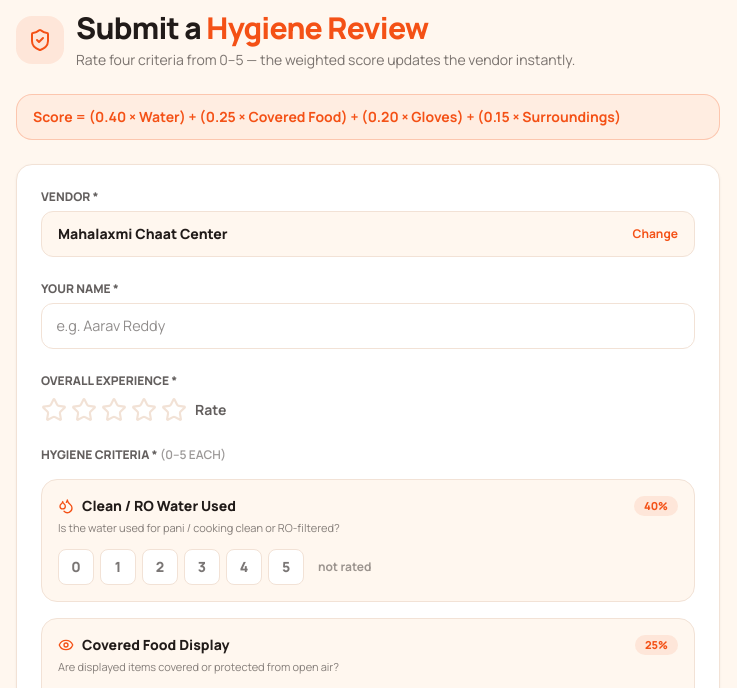
Test: HygieneReview › shows the selected value as "n / 5" once a criterion is rated
Click the button named "Clean / RO Water Used: 3 of 5". click: (202, 567)
box: [184,549,220,585]
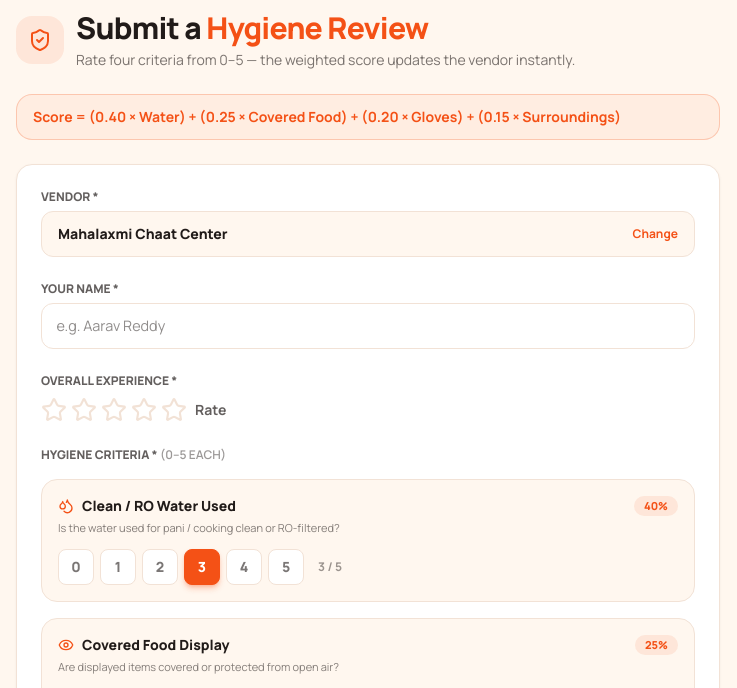
Expected: the text "3 / 5" is shown, [318,559,342,575]
